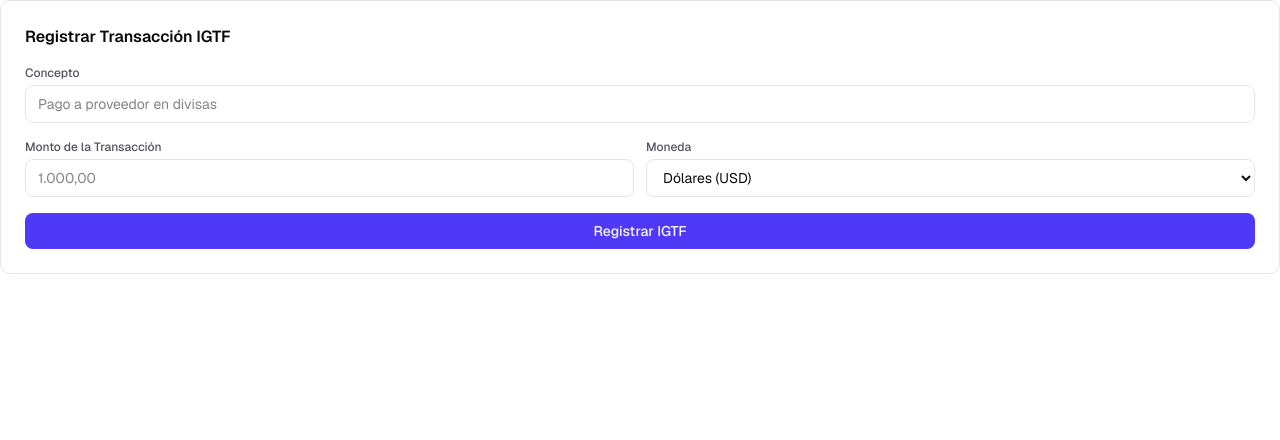
it: IGTFForm ÔÇö preview condicional › muestra preview para USD con CE (A5)
The image size is (1280, 440).
Type "1000" into the field with placeholder "1.000,00" at (330, 178), box [25,159,634,197]
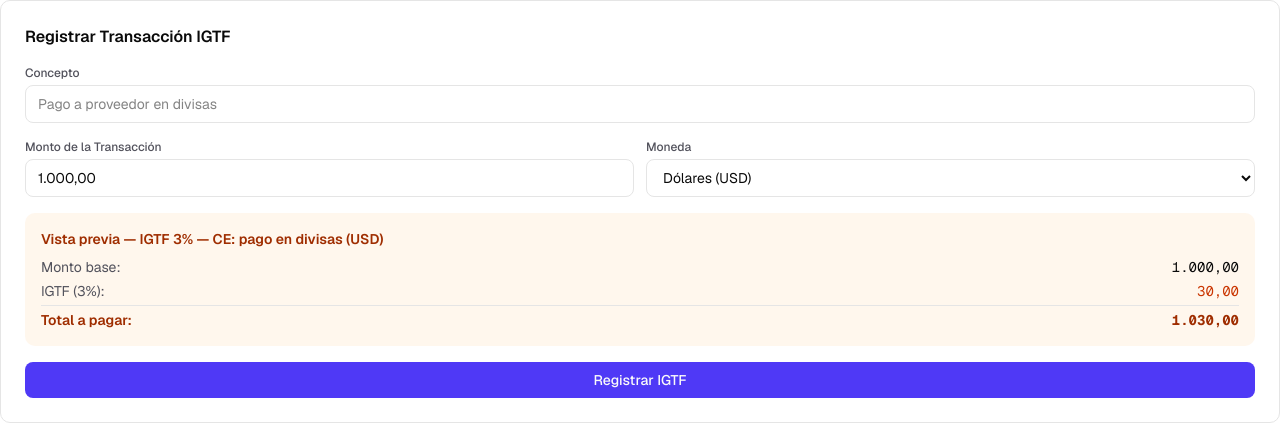
Now the text "Vista previa — IGTF 3% — CE: pago en divisas (USD)" is shown, box [41,230,384,248]
Now the text "1.030,00" is shown, box [1172,310,1239,330]
